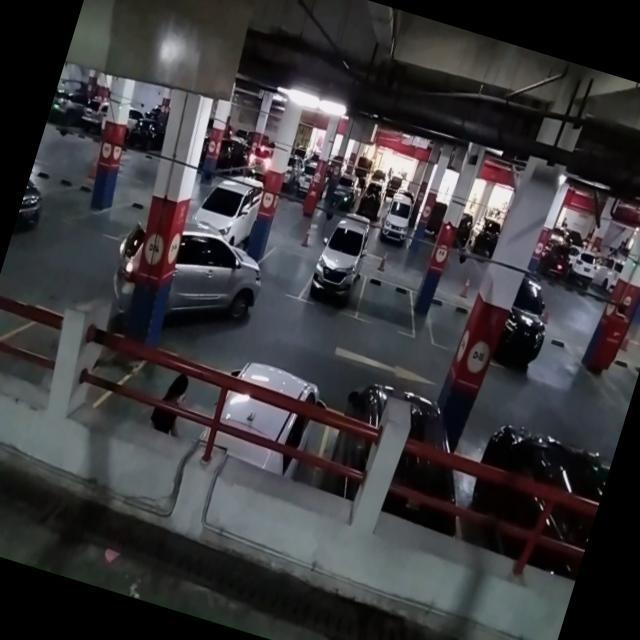empty: (352, 270, 425, 337), (252, 238, 316, 304), (420, 293, 472, 354)
occupied: (300, 242, 373, 319)
